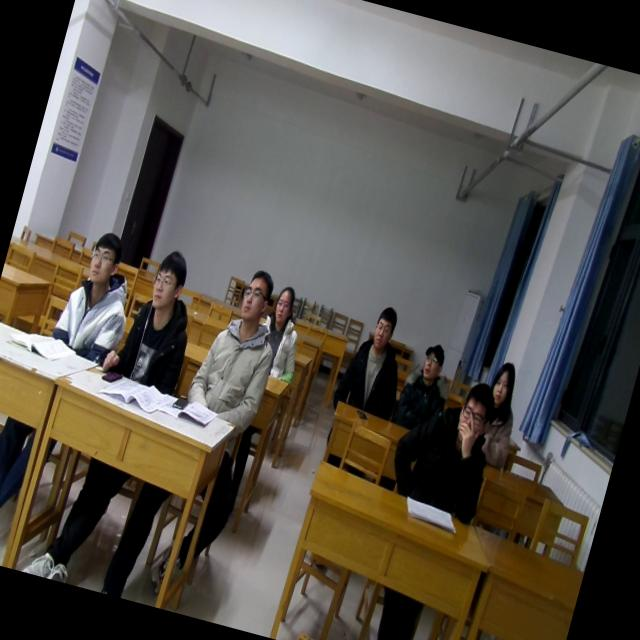lookup: (76, 220, 132, 296), (448, 376, 502, 454), (144, 243, 194, 317), (232, 262, 279, 328), (483, 354, 524, 412), (364, 294, 403, 354), (412, 332, 452, 389), (266, 278, 301, 334)
sit: (180, 253, 298, 436), (380, 364, 509, 525), (98, 236, 212, 396), (46, 218, 148, 372), (330, 298, 420, 421), (466, 357, 534, 472), (391, 335, 466, 438), (252, 282, 316, 385)
